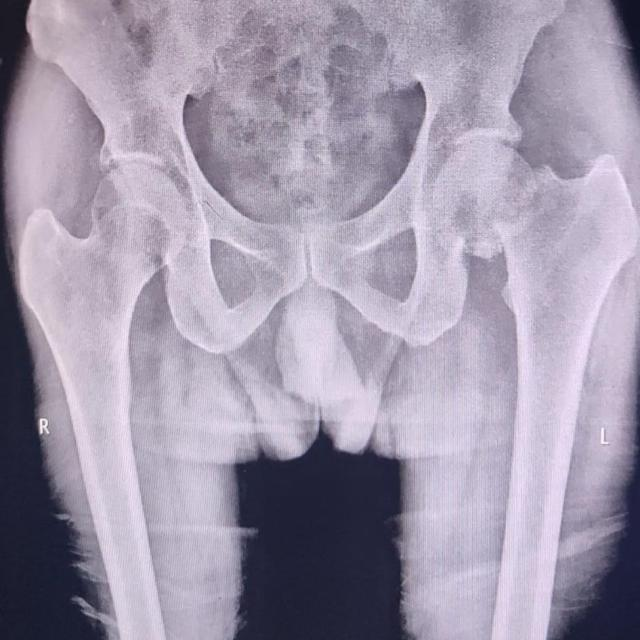left-neck: (497, 154, 640, 411), (433, 141, 538, 261)
normal-right: (19, 162, 189, 488)
